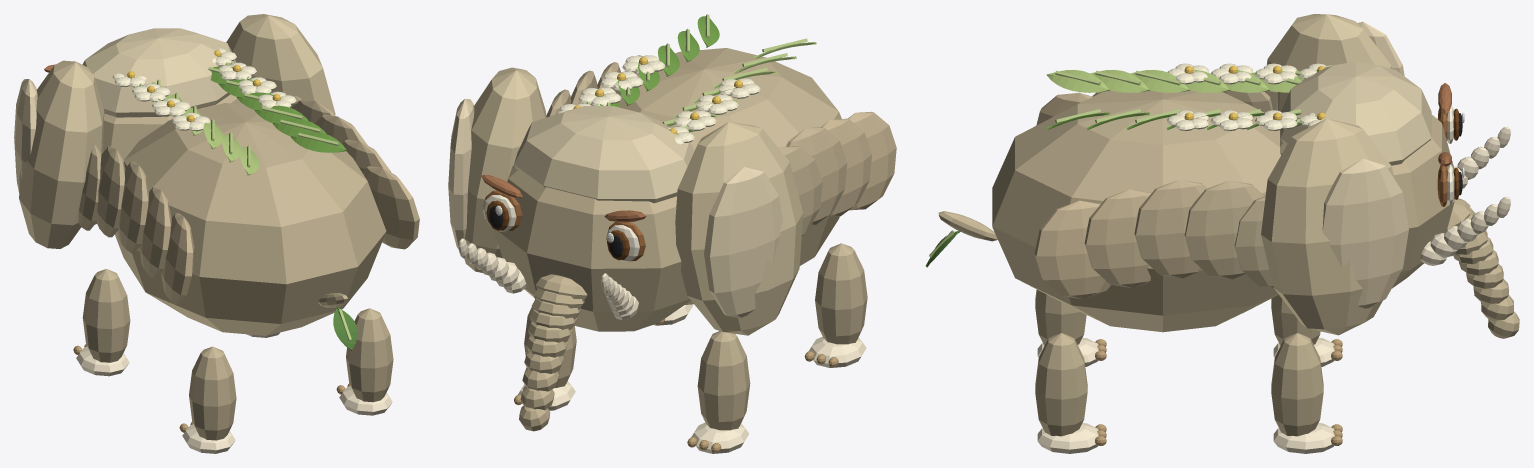
Rendered from RockElephant_A_S6.obj.
The picture shows the model from 3 angles, left to right: view 1: azimuth 30°, elevation 25°; view 2: azimuth 150°, elevation 25°; view 3: azimuth 270°, elevation 25°; orthographic projection. The views are drawn at different scales.
Parts seen in each view (by area): view 1: Body, LeftEar, Forehead, RightEar, LeftBackLeg, LeftFrontLeg, RightBackLeg, StonePlate_9, StonePlate_8, StonePlate_6, StonePlate_4, StonePlate_2 (+13 smaller); view 2: Head, Forehead, LeftEar, Body, LeftEarInner, RightEar, LeftBackLeg, LeftFrontLeg, RightEarInner, StonePlate_4, StonePlate_8, StonePlate_6 (+19 smaller); view 3: Body, RightEar, Forehead, RightEarInner, Head, StonePlate_3, StonePlate_9, StonePlate_5, LeftEar, StonePlate_7, RightFrontLeg, RightBackLeg (+11 smaller).
Part boxes in pixels (box(x1,y1,x2,y2)): Body: box(115, 103, 386, 335); LeftEar: box(19, 60, 104, 248); Forehead: box(82, 28, 236, 117); RightEar: box(226, 14, 335, 115); LeftBackLeg: box(189, 346, 236, 440); LeftFrontLeg: box(82, 269, 130, 362); RightBackLeg: box(346, 308, 393, 402); StonePlate_9: box(362, 166, 419, 249); StonePlate_8: box(161, 213, 194, 304); StonePlate_6: box(139, 187, 171, 277); StonePlate_4: box(118, 162, 149, 252); StonePlate_2: box(97, 146, 125, 237); Head: box(493, 165, 690, 331); Forehead: box(514, 106, 694, 203); LeftEar: box(675, 122, 803, 335); Body: box(591, 48, 841, 304); LeftEarInner: box(704, 167, 782, 317); RightEar: box(464, 67, 546, 272); LeftBackLeg: box(815, 243, 867, 344); LeftFrontLeg: box(697, 331, 750, 430); RightEarInner: box(448, 99, 474, 249); StonePlate_4: box(786, 127, 847, 224); StonePlate_8: box(847, 111, 896, 210); StonePlate_6: box(821, 118, 871, 216); Body: box(992, 90, 1280, 332); RightEar: box(1261, 118, 1394, 335); Forehead: box(1280, 61, 1431, 165); RightEarInner: box(1322, 158, 1408, 308); Head: box(1280, 114, 1454, 288); StonePlate_3: box(1184, 180, 1264, 279); StonePlate_9: box(1034, 200, 1110, 299); StonePlate_5: box(1134, 180, 1206, 278); LeftEar: box(1267, 14, 1392, 111); StonePlate_7: box(1084, 189, 1151, 287); RightFrontLeg: box(1271, 333, 1323, 436); RightBackLeg: box(1035, 333, 1087, 436).
Size of the model in its own units: 17.23 by 17.07 by 26.99.
